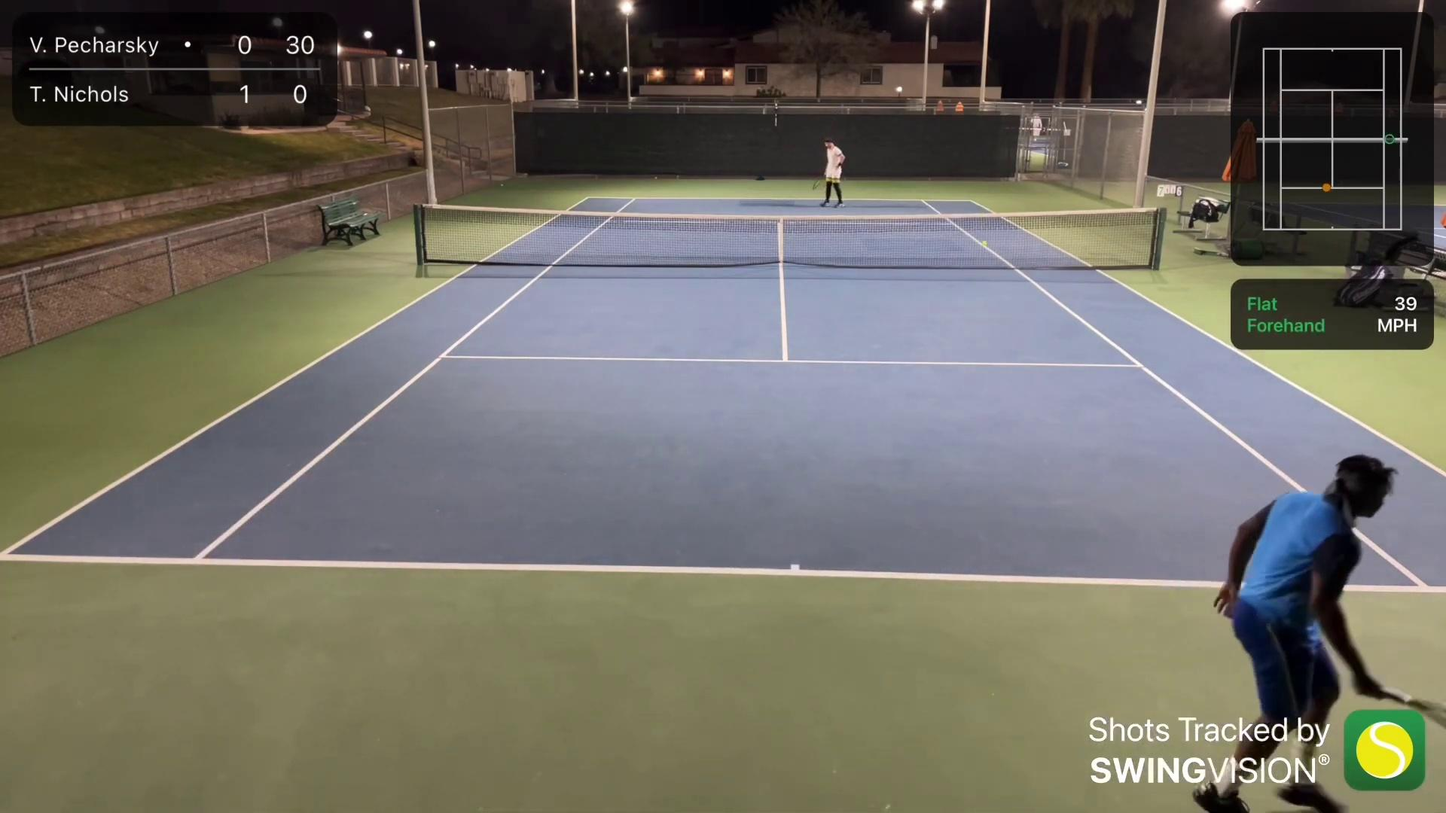ball: (982, 239, 988, 245)
